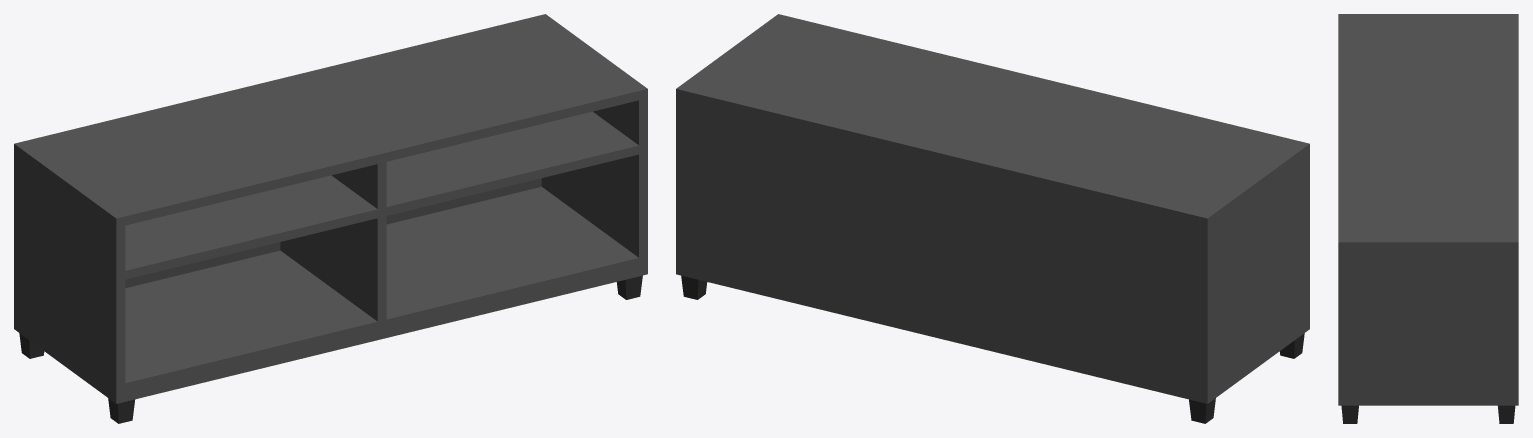
File: TV_Table3_C2.fbx
The picture shows the model from 3 angles, left to right: view 1: azimuth 30°, elevation 25°; view 2: azimuth 150°, elevation 25°; view 3: azimuth 270°, elevation 25°; orthographic projection. The views are drawn at different scales.
Visible parts, largest first — view 1: TV_Table3_C2; view 2: TV_Table3_C2; view 3: TV_Table3_C2.
Boxes of the visible parts, x1,y1,x2,y2 form: TV_Table3_C2: (14,14,647,423); TV_Table3_C2: (676,14,1309,423); TV_Table3_C2: (1338,14,1518,423).
Size of the model in its own units: 120 by 45 by 40.
